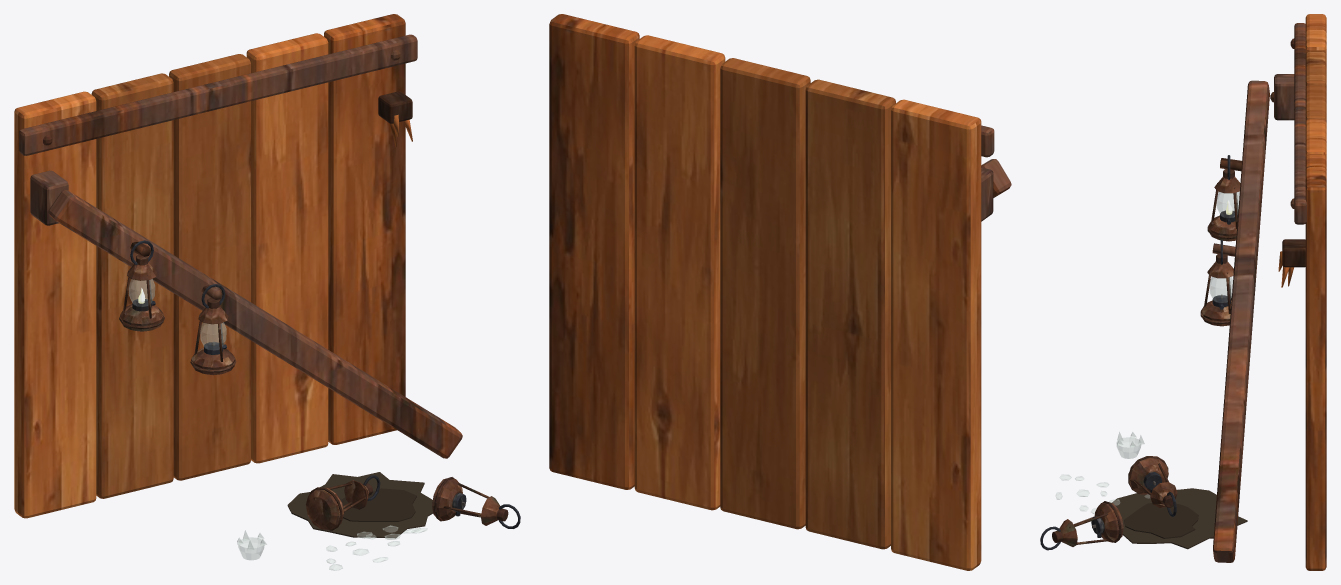
Rendered from lw_broken_lamp_rack.glb.
3 renders of one model, left to right at view 1: azimuth 30°, elevation 25°; view 2: azimuth 150°, elevation 25°; view 3: azimuth 270°, elevation 25°, orthographic. The views are drawn at different scales.
Parts seen in each view (by area): view 1: model; view 2: model; view 3: model.
Boxes of the visible parts, box(x1,y1,x2,y2) form: model: box(14, 14, 520, 570); model: box(549, 14, 1011, 570); model: box(1040, 14, 1326, 570).
Bounding box in the file's own units: 1.03 × 1.01 × 0.6805.
Materials: 35 (9 with a texture image).
